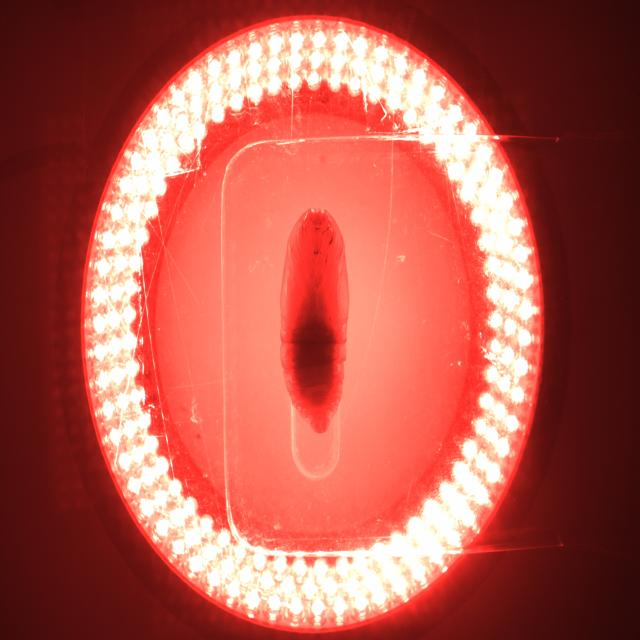female: (317, 415, 323, 422)
